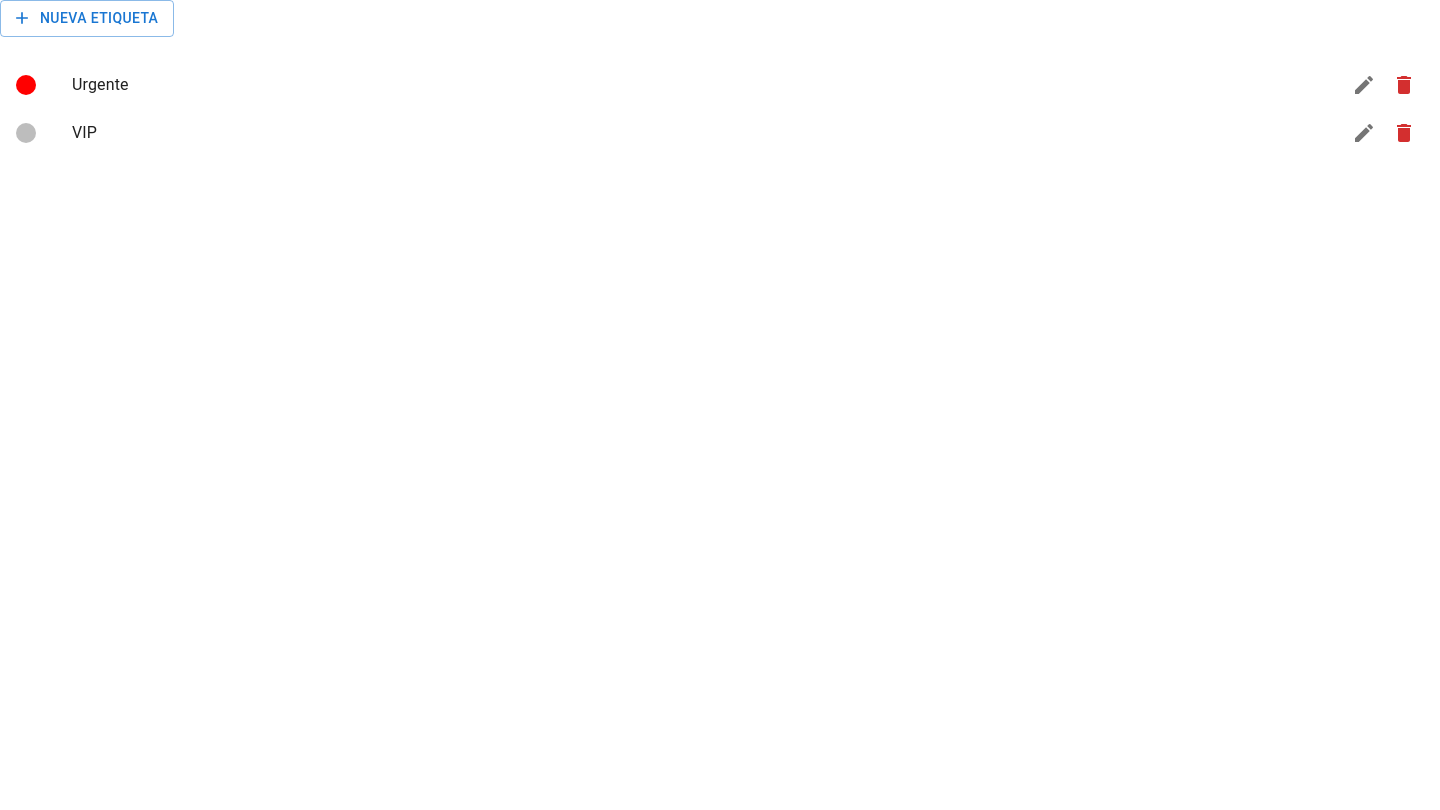
Test case: TagsManager › given new tag button, when clicked, then opens create dialog
What coordinates should you click on to do the following:
click the button "Nueva etiqueta"
I would click on:
 (87, 18)
Its box is [0,0,174,36].
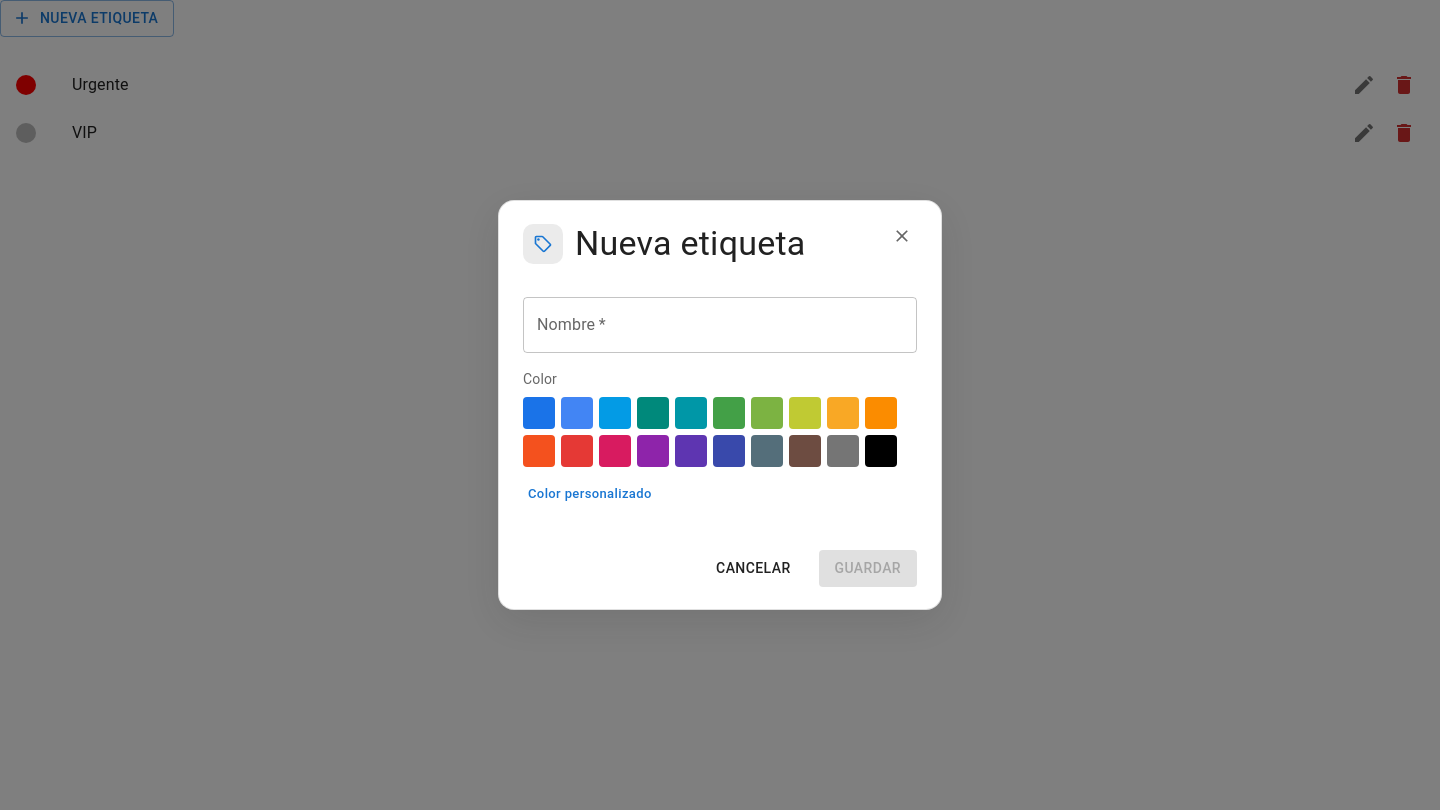
Result: the heading "Nueva etiqueta" is shown at [575,223,806,265]
